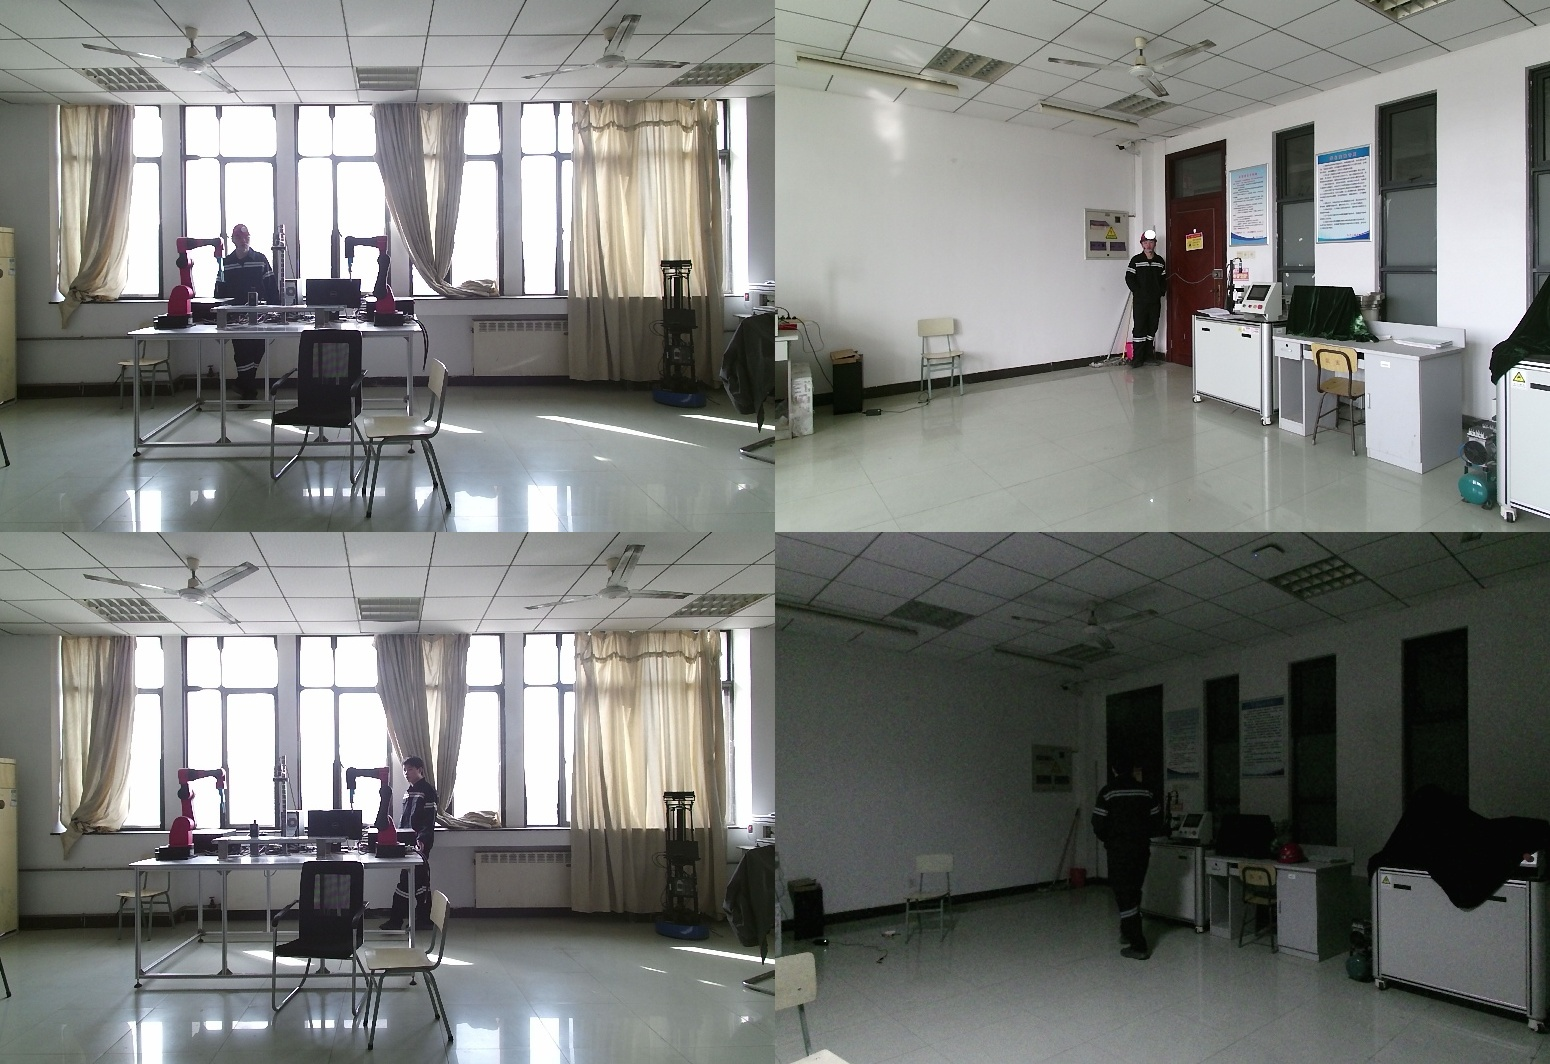person: (1090, 750, 1175, 963), (213, 224, 279, 410), (380, 757, 445, 939), (1124, 234, 1168, 367)
